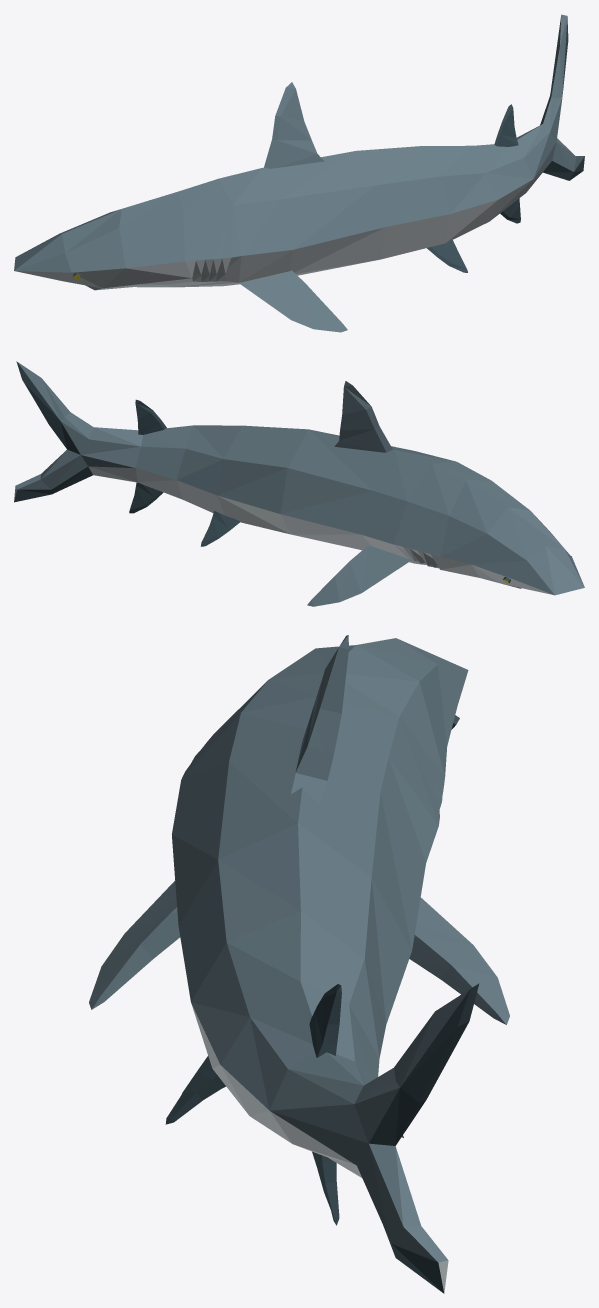
3 views of the same model, one above another, from view 1: azimuth 30°, elevation 25°; view 2: azimuth 150°, elevation 25°; view 3: azimuth 270°, elevation 25° (orthographic). The views are drawn at different scales.
Visible parts, largest first — view 1: node_MeshObject181587968-PolyPaper16; view 2: node_MeshObject181587968-PolyPaper16; view 3: node_MeshObject181587968-PolyPaper16.
Boxes of the visible parts, x1,y1,x2,y2 form: node_MeshObject181587968-PolyPaper16: (14,14,584,332); node_MeshObject181587968-PolyPaper16: (14,361,584,606); node_MeshObject181587968-PolyPaper16: (89,635,509,1293).
Size of the model in its own units: 1.21 by 0.4029 by 0.3935.
